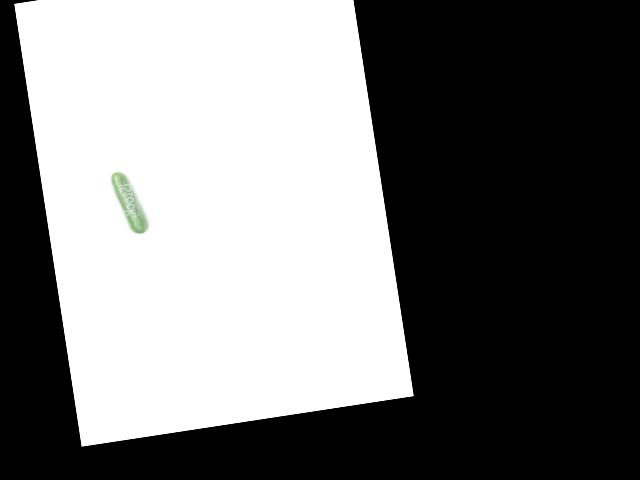cucumber: (109, 168, 149, 237)
